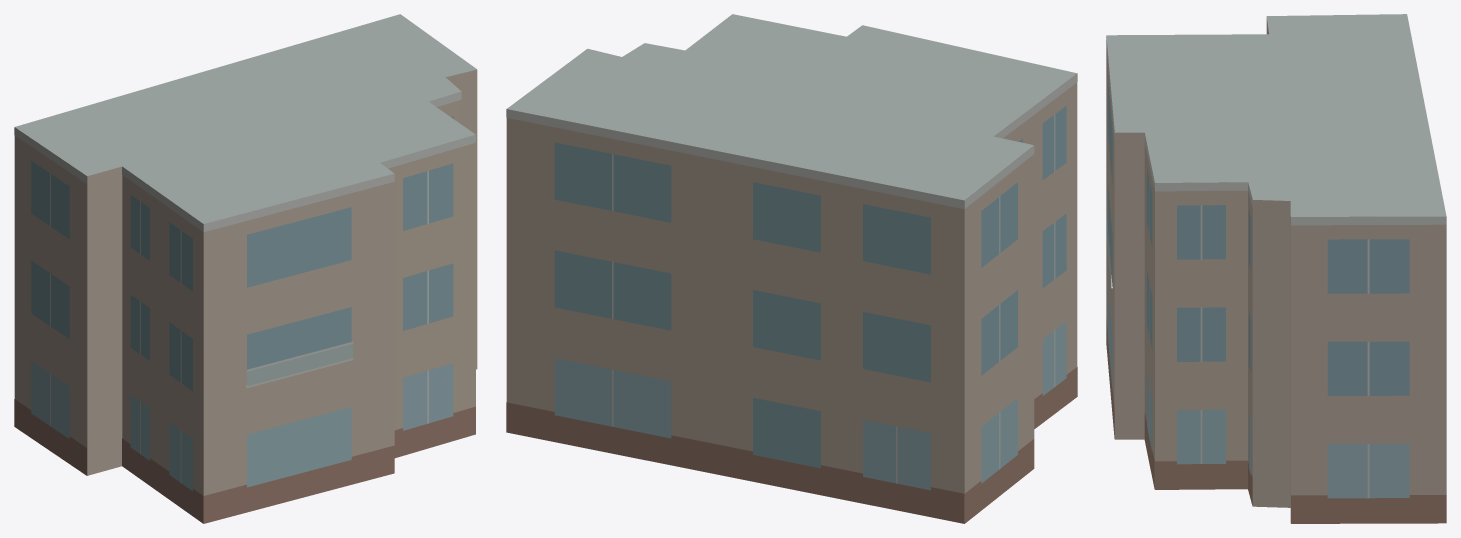
File: survey-upis-32982061.glb
3 renders of one model, left to right at view 1: azimuth 30°, elevation 25°; view 2: azimuth 150°, elevation 25°; view 3: azimuth 270°, elevation 25°, orthographic. The views are drawn at different scales.
Visible parts, largest first — view 1: survey-upis-32982061.tmp; view 2: survey-upis-32982061.tmp; view 3: survey-upis-32982061.tmp.
Part boxes in pixels (x1,y1,x2,y2): survey-upis-32982061.tmp: [14, 14, 477, 523]; survey-upis-32982061.tmp: [506, 14, 1077, 523]; survey-upis-32982061.tmp: [1106, 14, 1446, 523].
Bounding box in the file's own units: 12.78 × 9 × 9.05.
